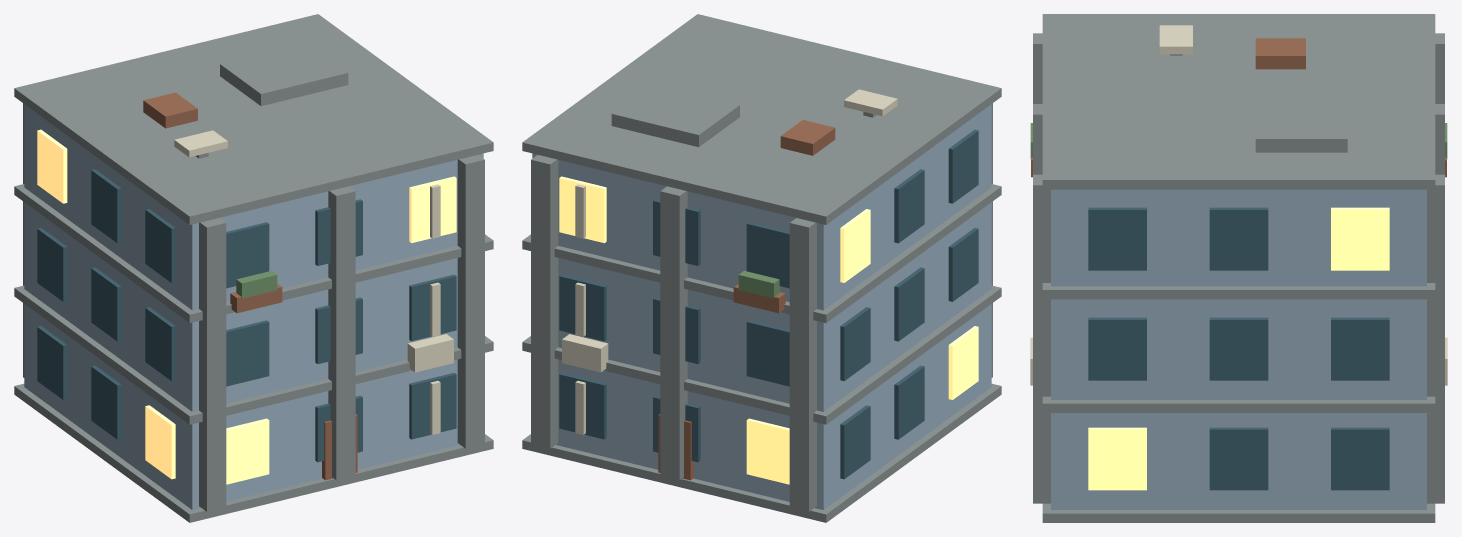
File: brutalist.glb
3 views of the same model, side by side, from view 1: azimuth 30°, elevation 25°; view 2: azimuth 150°, elevation 25°; view 3: azimuth 270°, elevation 25° (orthographic). The views are drawn at different scales.
Visible parts, largest first — view 1: Module_4; view 2: Module_4; view 3: Module_4.
Part boxes in pixels (x1=…): Module_4: x1=14, y1=14, x2=493, y2=522; Module_4: x1=522, y1=14, x2=1001, y2=522; Module_4: x1=1030, y1=14, x2=1447, y2=522.
Size of the model in its own units: 0.94 by 0.9495 by 0.998.
